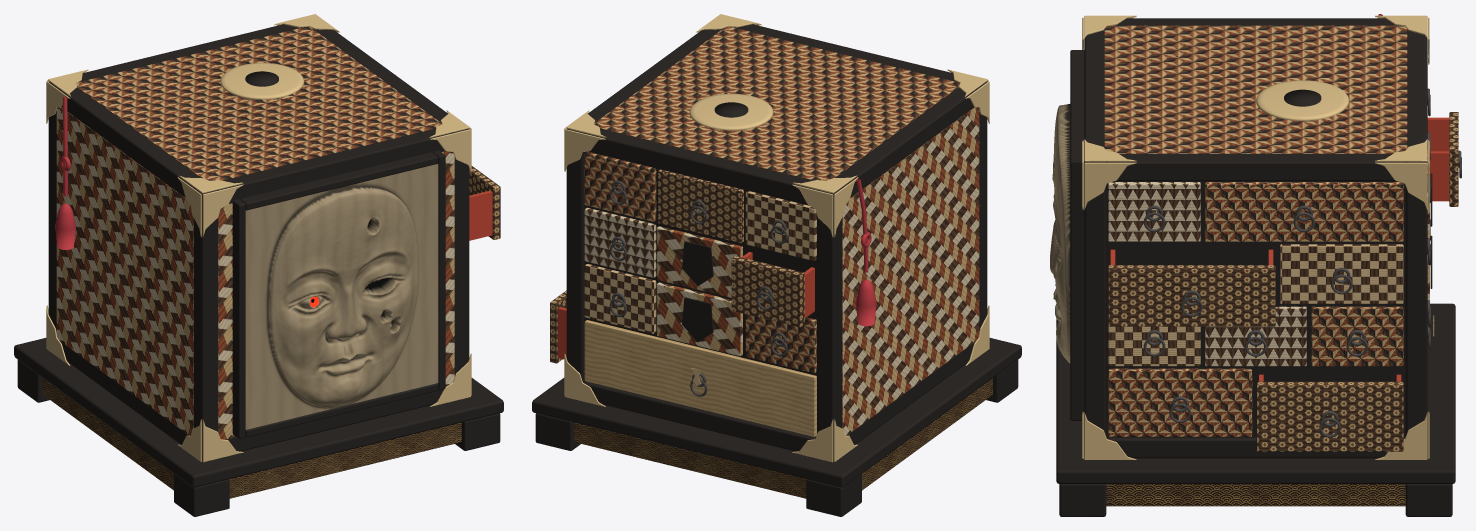
Rendered from caja_viva_ac.glb.
3 views of the same model, side by side, from view 1: azimuth 30°, elevation 25°; view 2: azimuth 150°, elevation 25°; view 3: azimuth 270°, elevation 25° (orthographic). The views are drawn at different scales.
Parts seen in each view (by area): view 1: Cara, PanelIzquierdo, PanelArriba, ZocaloTapa, PanelFrente, Liston, Liston.009, ZocaloBanda, Liston.003, Liston.004, MarcoCara, Liston.008 (+19 smaller); view 2: PanelIzquierdo, PanelArriba, CajonLargo_frente, ZocaloTapa, Liston.011, Liston.001, ZocaloBanda.002, CajonDetras_8_frente, Liston.010, Liston.005, CajonDetras_4_frente, CajonDetras_9_frente (+25 smaller); view 3: PanelArriba, ZocaloTapa, CajonDerecho_8_frente, Cuerpo, CajonDerecho_1_frente, CajonDerecho_5_frente, CajonDerecho_0_frente, CajonDerecho_6_frente, Liston.007, ZocaloBanda.003, CajonDerecho_4_frente, CajonDerecho_7_frente (+26 smaller).
Part boxes in pixels (<box>): Cara: <box>245,164,438,429</box>; PanelIzquierdo: <box>56,107,193,435</box>; PanelArriba: <box>76,27,441,180</box>; ZocaloTapa: <box>14,338,503,487</box>; PanelFrente: <box>218,151,454,439</box>; Liston: <box>193,187,217,460</box>; Liston.009: <box>218,128,451,203</box>; ZocaloBanda: <box>229,422,461,498</box>; Liston.003: <box>58,87,200,197</box>; Liston.004: <box>452,128,469,376</box>; MarcoCara: <box>232,199,245,438</box>; Liston.008: <box>225,385,447,451</box>; PanelIzquierdo: <box>842,107,979,435</box>; PanelArriba: <box>594,27,959,180</box>; CajonLargo_frente: <box>584,320,816,436</box>; ZocaloTapa: <box>532,338,1021,487</box>; Liston.011: <box>584,128,817,204</box>; Liston.001: <box>817,187,842,460</box>; ZocaloBanda.002: <box>574,422,806,498</box>; CajonDetras_8_frente: <box>658,169,743,243</box>; Liston.010: <box>584,381,815,451</box>; Liston.005: <box>566,128,584,382</box>; CajonDetras_4_frente: <box>731,256,804,327</box>; CajonDetras_9_frente: <box>584,151,656,221</box>; PanelArriba: <box>1104,25,1407,153</box>; ZocaloTapa: <box>1056,303,1455,483</box>; CajonDerecho_8_frente: <box>1205,182,1403,241</box>; Cuerpo: <box>1106,181,1405,437</box>; CajonDerecho_1_frente: <box>1256,381,1403,451</box>; CajonDerecho_5_frente: <box>1108,265,1275,326</box>; CajonDerecho_0_frente: <box>1108,368,1252,436</box>; CajonDerecho_6_frente: <box>1280,244,1403,303</box>; Liston.007: <box>1106,154,1405,180</box>; ZocaloBanda.003: <box>1106,484,1405,506</box>; CajonDerecho_4_frente: <box>1311,306,1403,366</box>; CajonDerecho_7_frente: <box>1108,182,1200,241</box>.
Bounding box in the file's own units: 0.2741 × 0.2478 × 0.2641.
Materials: 15 (9 with a texture image).
